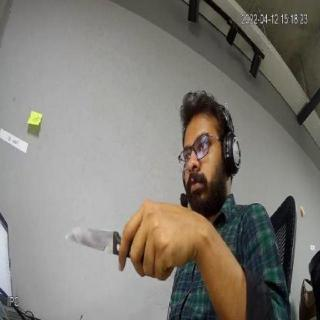knife: (58, 221, 124, 267)
